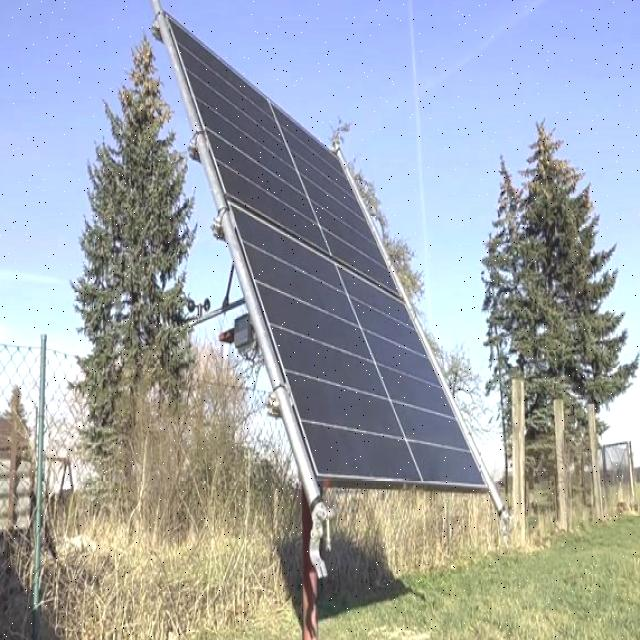Normal Solar Panel: (167, 13, 488, 484)
